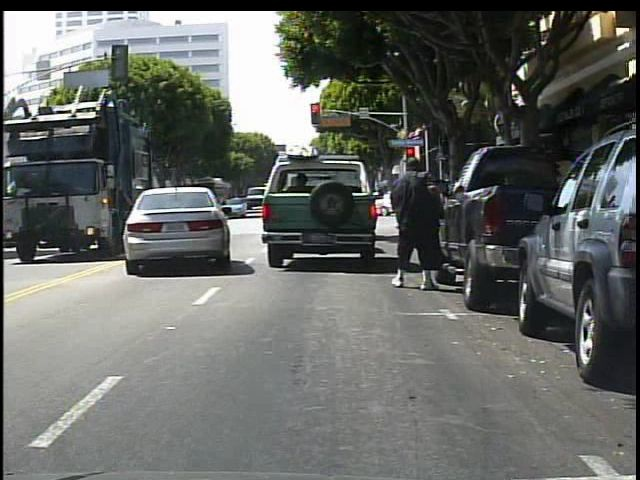person: (387, 158, 445, 294)
